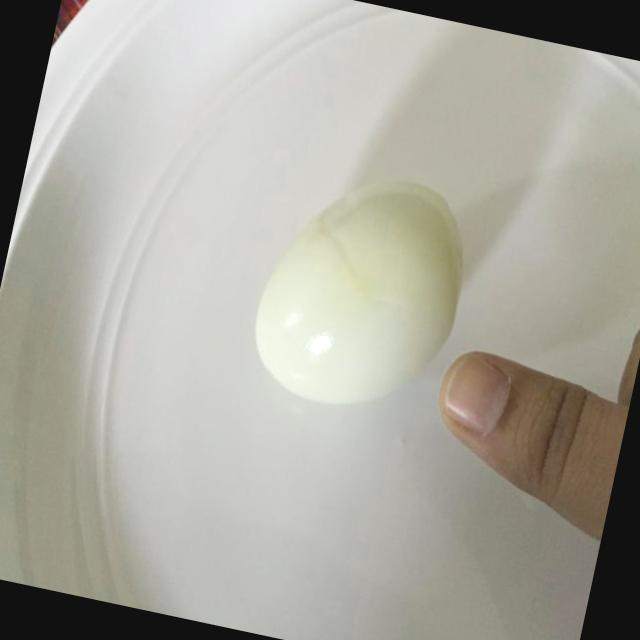Egg: (230, 147, 486, 432)
Finger: (416, 336, 597, 515)
